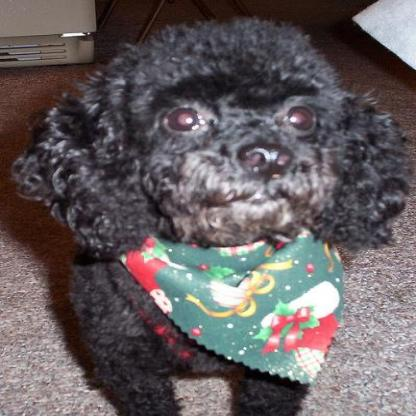toy_poodle: (8, 12, 404, 414)
